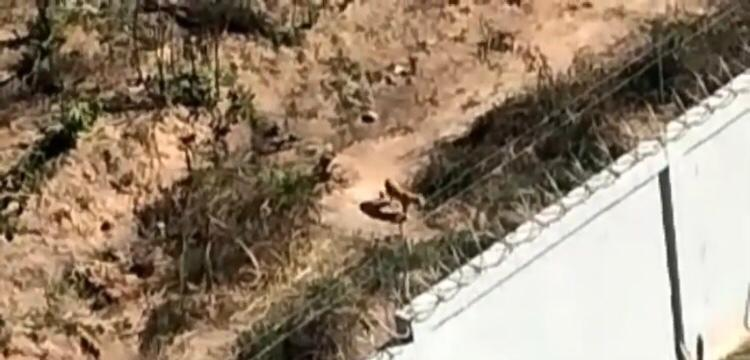OncaParda: (370, 176, 428, 221)
